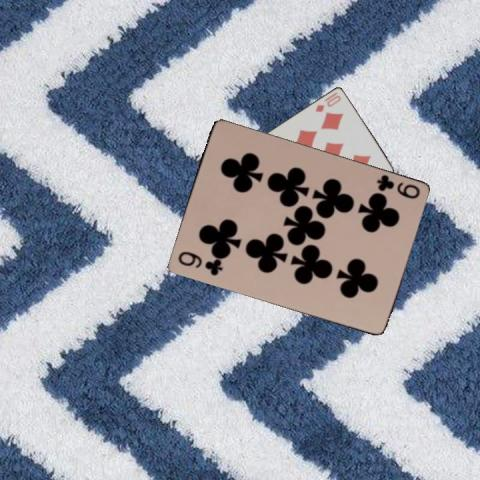10d: (312, 93, 342, 114)
9c: (174, 250, 224, 278), (374, 172, 422, 201)
